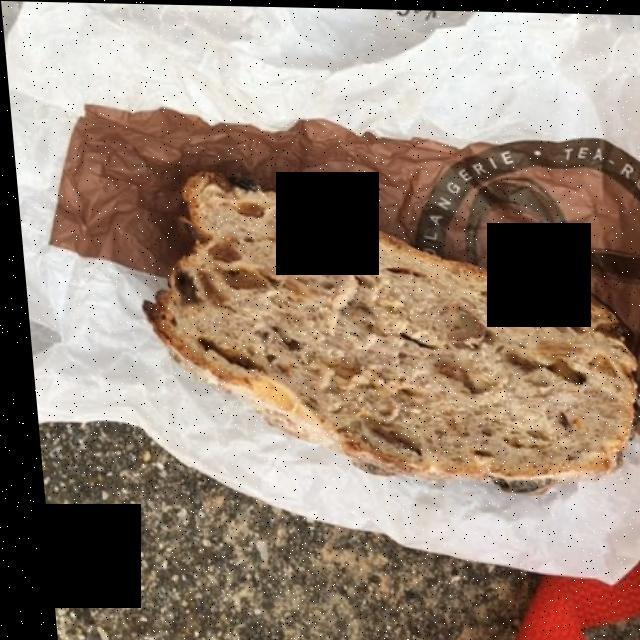bread: (151, 175, 626, 485)
